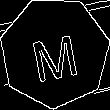M_N: (27, 24, 82, 82)
